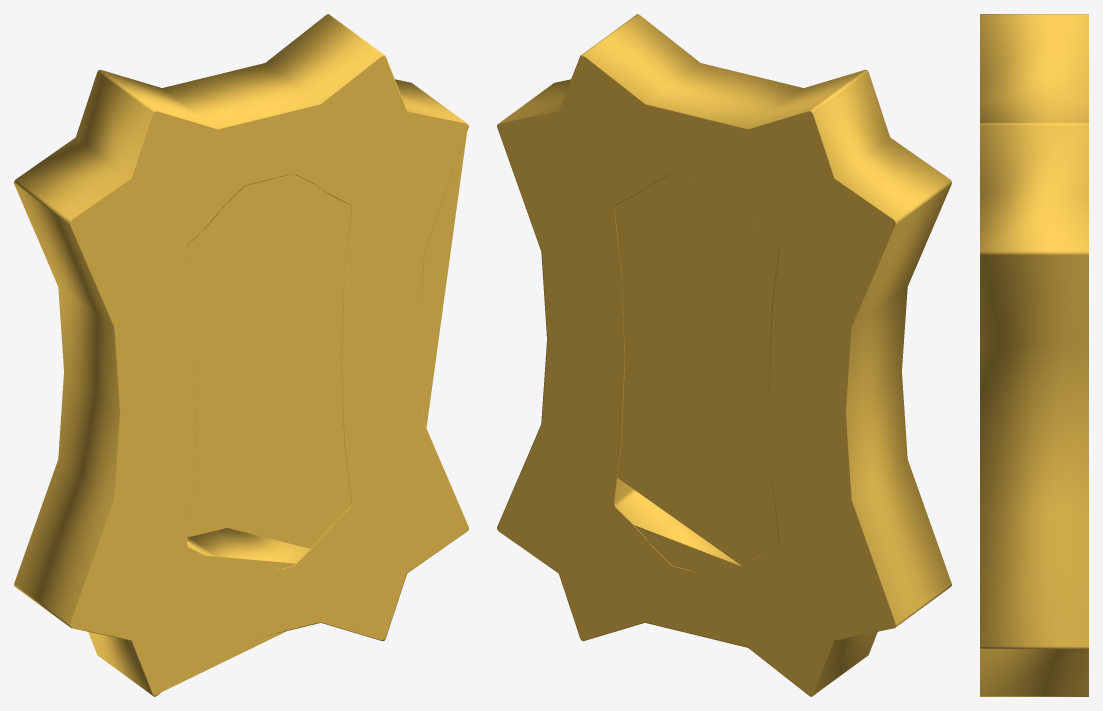
The model's file is chain_link.fbx.
3 renders of one model, left to right at view 1: azimuth 30°, elevation 25°; view 2: azimuth 150°, elevation 25°; view 3: azimuth 270°, elevation 25°, orthographic. The views are drawn at different scales.
Parts seen in each view (by area): view 1: chain_link.001; view 2: chain_link.001; view 3: chain_link.001.
Boxes of the visible parts, box(x1,y1,x2,y2) form: chain_link.001: box(14, 14, 468, 696); chain_link.001: box(497, 14, 951, 696); chain_link.001: box(980, 14, 1088, 696).
Size of the model in its own units: 0.4767 by 0.6691 by 0.1151.
